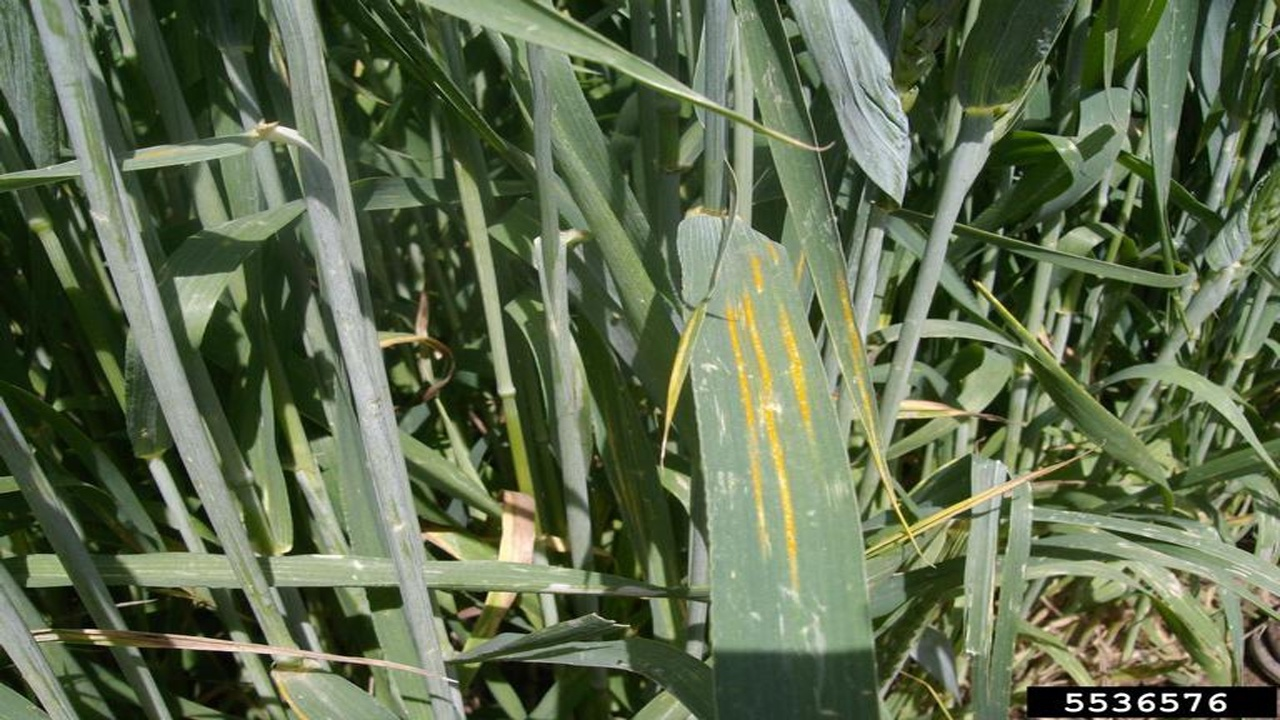stripe_rust: (679, 209, 876, 720)
